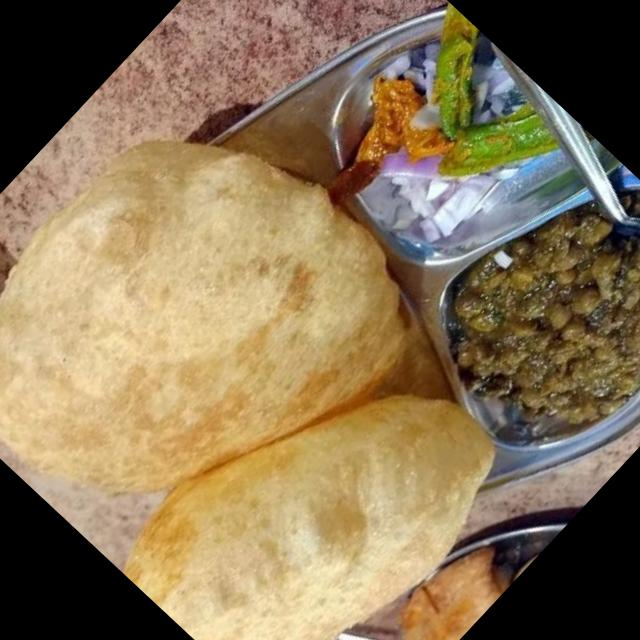Bhatura: (0, 75, 573, 640)
Chole: (415, 172, 640, 478)
